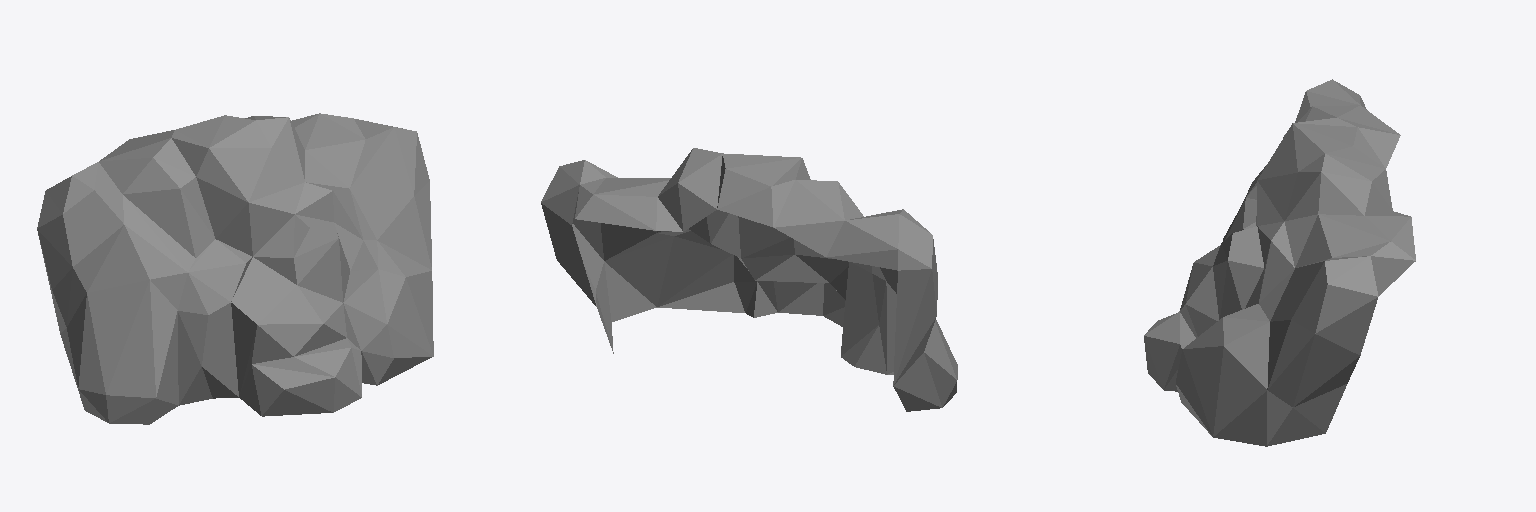
File: Roca_05.obj
The picture shows the model from 3 angles: view 1: azimuth 30°, elevation 25°; view 2: azimuth 150°, elevation 25°; view 3: azimuth 270°, elevation 25°; orthographic projection.
Parts seen in each view (by area): view 1: Roca_05; view 2: Roca_05; view 3: Roca_05.
Boxes of the visible parts, x1,y1,x2,y2 form: Roca_05: [37, 113, 433, 424]; Roca_05: [541, 148, 957, 411]; Roca_05: [1144, 79, 1415, 446].
Size of the model in its own units: 44.79 by 25.38 by 27.59.